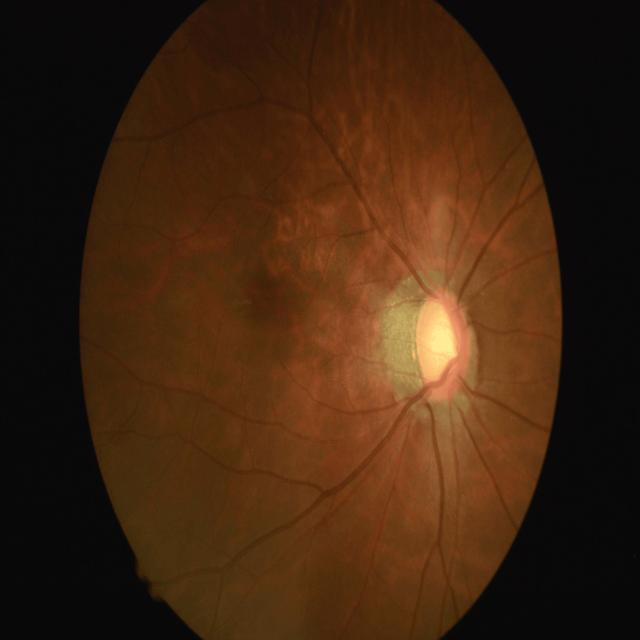cup: (423, 300, 461, 386)
disk: (414, 292, 472, 404)
